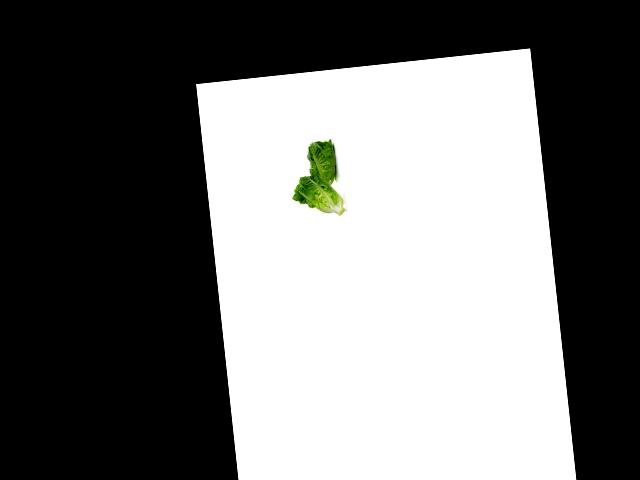lettuce: (291, 166, 349, 220)
